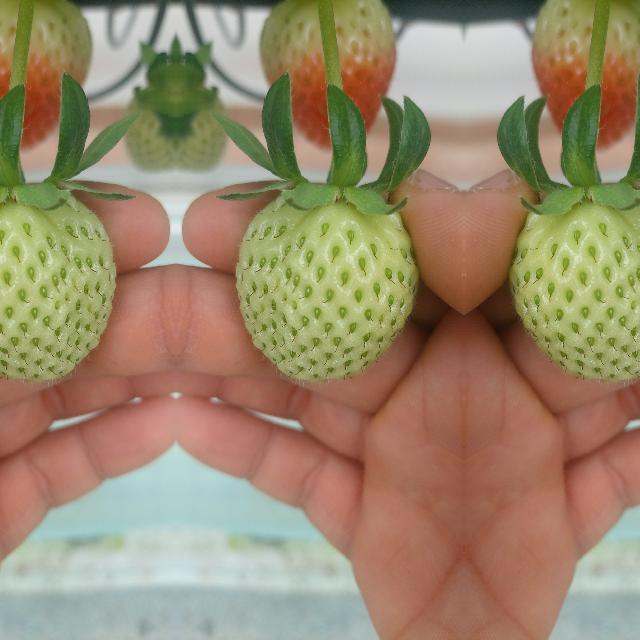Health_25: (235, 195, 418, 382), (508, 194, 640, 381), (0, 194, 115, 381)
Health_75: (257, 0, 401, 152), (525, 0, 640, 152), (0, 0, 93, 152)
